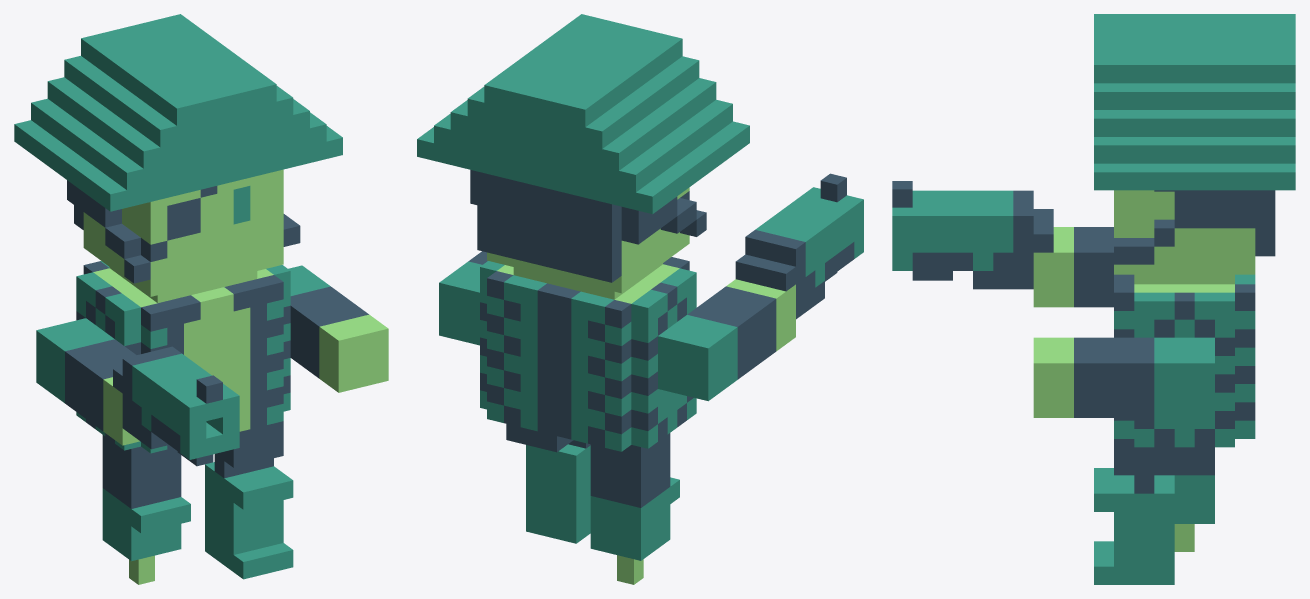
Rendered from PirataW3.obj.
3 views of the same model, side by side, from view 1: azimuth 30°, elevation 25°; view 2: azimuth 150°, elevation 25°; view 3: azimuth 270°, elevation 25° (orthographic). The views are drawn at different scales.
Bounding box in the file's own units: 1.6 × 2.9 × 2.
Materials: 1 (1 with a texture image).
